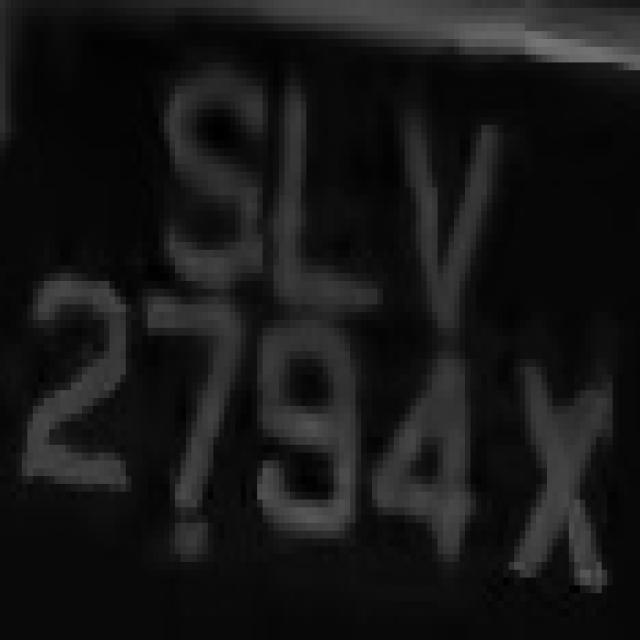2: (16, 218, 126, 538)
4: (355, 320, 487, 562)
7: (120, 242, 252, 538)
9: (213, 281, 372, 554)
L: (268, 39, 399, 336)
S: (142, 47, 263, 312)
V: (366, 70, 508, 359)
X: (492, 320, 634, 617)
